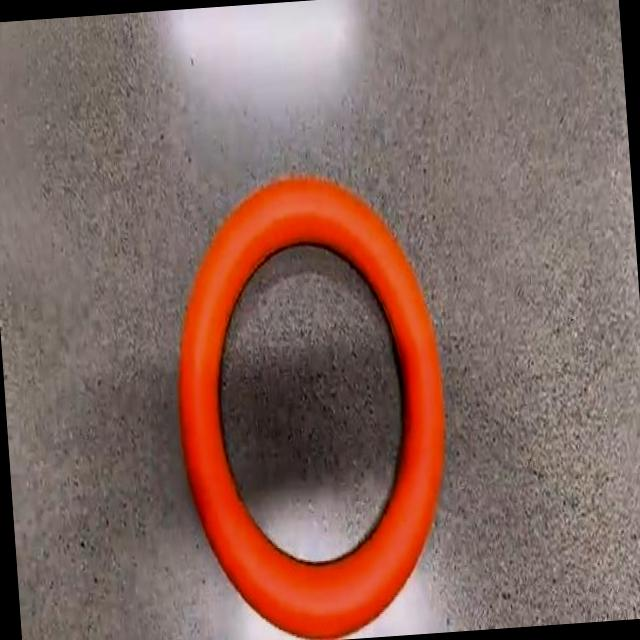note: (178, 178, 443, 636)
